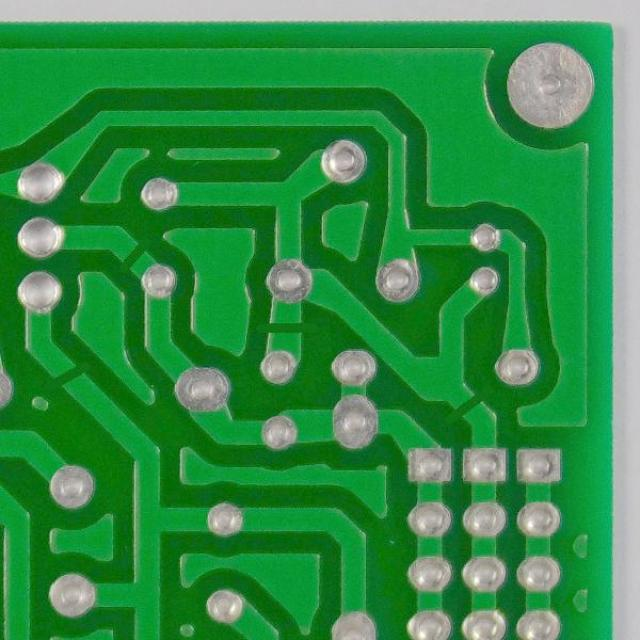Open_Circuit: (41, 352, 96, 399), (440, 384, 495, 426), (248, 312, 310, 344), (111, 234, 152, 277)
